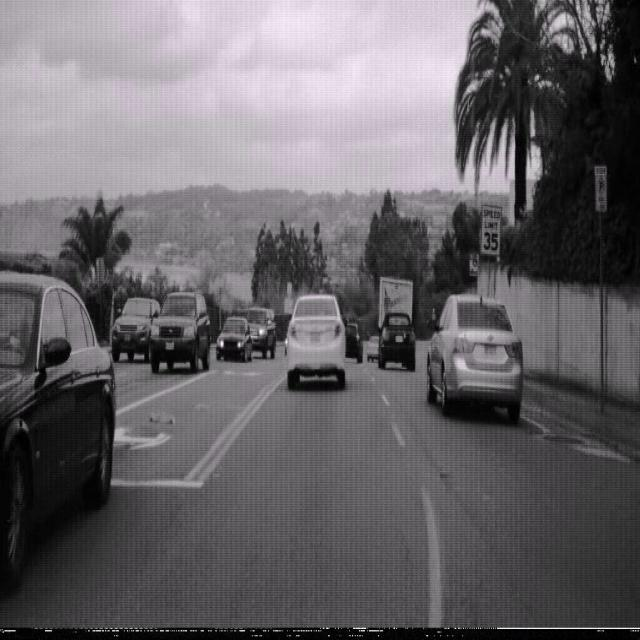speedLimit35: (480, 202, 502, 258)
